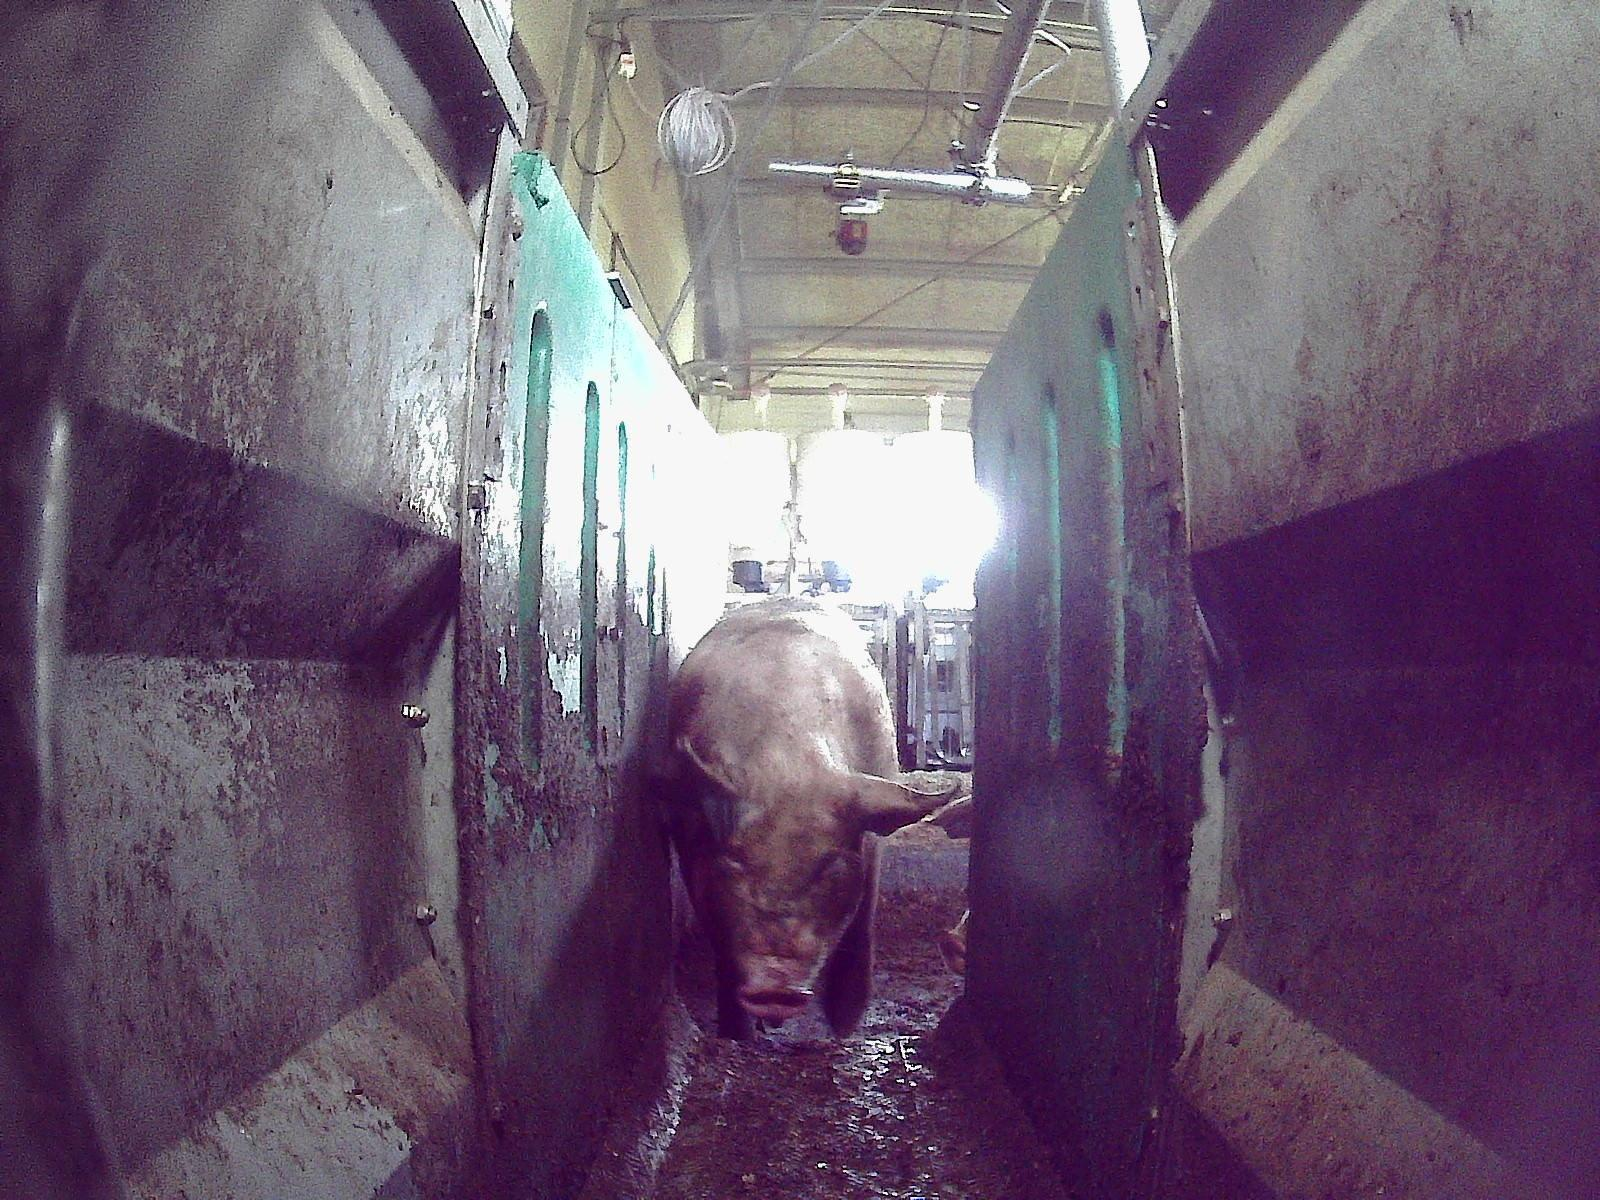Face: (694, 772, 860, 1018)
